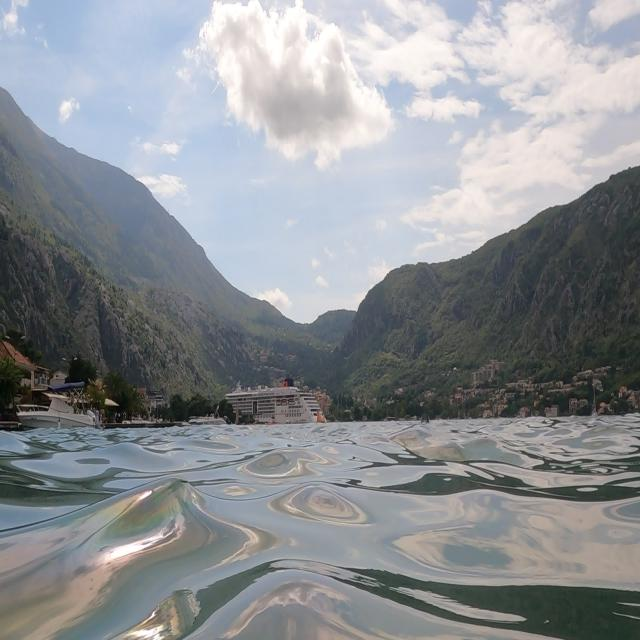boat: (12, 359, 108, 441), (224, 376, 334, 434)
